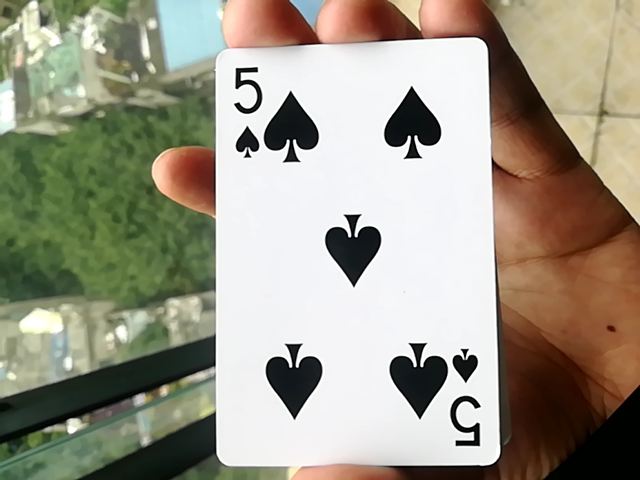ht 5: (194, 41, 513, 470)
